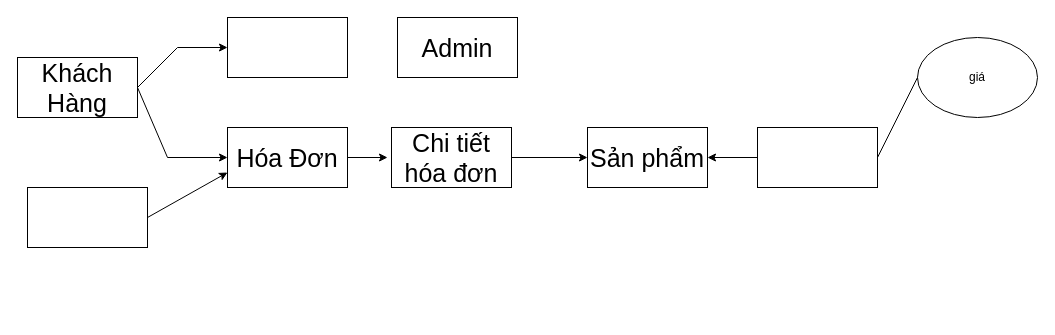
Image size: 1055x335. Some labels were removed from this diagram. Each missing label, with the centre of its shape:
"Phản Hồi" belongs at point (287, 47).
"Thanh toán" belongs at point (87, 217).
"Thể loại" belongs at point (817, 157).
